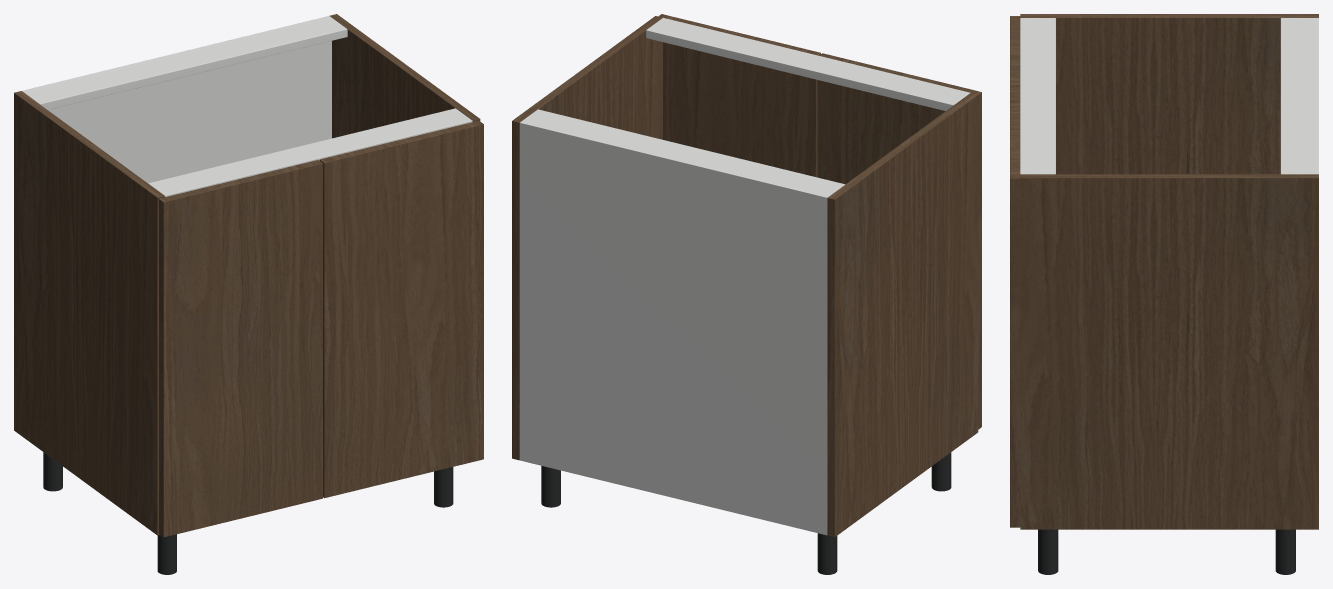
Rendered from oppein-pb-mso-b30fh.glb.
The picture shows the model from 3 angles, left to right: view 1: azimuth 30°, elevation 25°; view 2: azimuth 150°, elevation 25°; view 3: azimuth 270°, elevation 25°; orthographic projection. The views are drawn at different scales.
Parts seen in each view (by area): view 1: Door, Door.001, Cabinet side, Cabinet back, Cabinet side.001, Top support rail, Top support rail.001, Adjustable foot.001, Adjustable foot.003, Adjustable foot; view 2: Cabinet back, Cabinet side, Door.001, Cabinet side.001, Door, Top support rail.001, Top support rail, Cabinet bottom, Adjustable foot, Adjustable foot.002, Adjustable foot.001; view 3: Cabinet side.001, Cabinet side, Top support rail.001, Top support rail, Door.001, Adjustable foot.003, Adjustable foot.002, Cabinet back, Door.
Boxes of the visible parts, bbox=[...] form: Door: bbox=[159, 160, 322, 537]; Door.001: bbox=[319, 120, 483, 498]; Cabinet side: bbox=[14, 91, 164, 535]; Cabinet back: bbox=[22, 16, 331, 183]; Cabinet side.001: bbox=[329, 14, 480, 138]; Top support rail: bbox=[23, 18, 347, 109]; Top support rail.001: bbox=[148, 108, 472, 197]; Adjustable foot.001: bbox=[157, 534, 176, 574]; Adjustable foot.003: bbox=[434, 467, 453, 507]; Adjustable foot: bbox=[43, 452, 62, 491]; Cabinet back: bbox=[519, 120, 829, 535]; Cabinet side: bbox=[827, 93, 978, 537]; Door.001: bbox=[658, 14, 820, 177]; Cabinet side.001: bbox=[512, 16, 662, 460]; Door: bbox=[817, 53, 981, 429]; Top support rail.001: bbox=[646, 18, 970, 110]; Top support rail: bbox=[523, 109, 844, 195]; Cabinet bottom: bbox=[520, 453, 826, 534]; Adjustable foot: bbox=[817, 533, 837, 574]; Adjustable foot.002: bbox=[541, 466, 560, 507]; Adjustable foot.001: bbox=[931, 452, 951, 491]; Cabinet side.001: bbox=[1020, 174, 1318, 529]; Cabinet side: bbox=[1020, 14, 1318, 174]; Top support rail.001: bbox=[1020, 18, 1055, 174]; Top support rail: bbox=[1280, 18, 1315, 174]; Door.001: bbox=[1010, 97, 1020, 527]; Adjustable foot.003: bbox=[1038, 529, 1058, 574]; Adjustable foot.002: bbox=[1275, 529, 1295, 574]; Cabinet back: bbox=[1313, 18, 1318, 174]; Door: bbox=[1010, 16, 1020, 97].
Size of the model in its own units: 0.762 by 0.8763 by 0.6064.
Materials: 3 (1 with a texture image).
